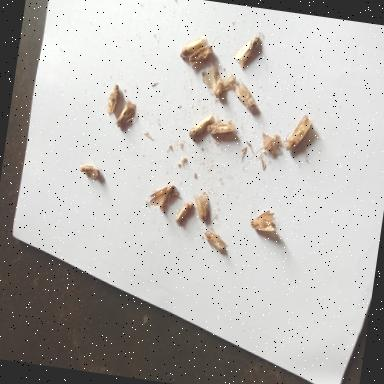pbw: (198, 63, 238, 100), (232, 29, 264, 72), (185, 32, 219, 70), (282, 111, 312, 154), (232, 78, 266, 114), (191, 226, 229, 258), (190, 190, 219, 231), (110, 95, 138, 130), (148, 181, 178, 213), (172, 200, 198, 231), (188, 112, 215, 140), (248, 206, 277, 232), (179, 32, 204, 62), (205, 116, 237, 138), (103, 82, 122, 116), (78, 156, 104, 180)
